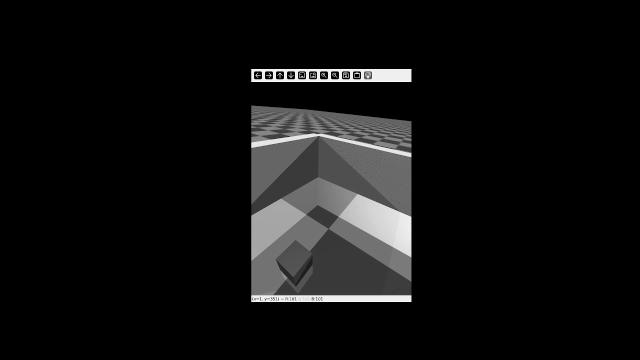cuadrado: (272, 238, 319, 284)
